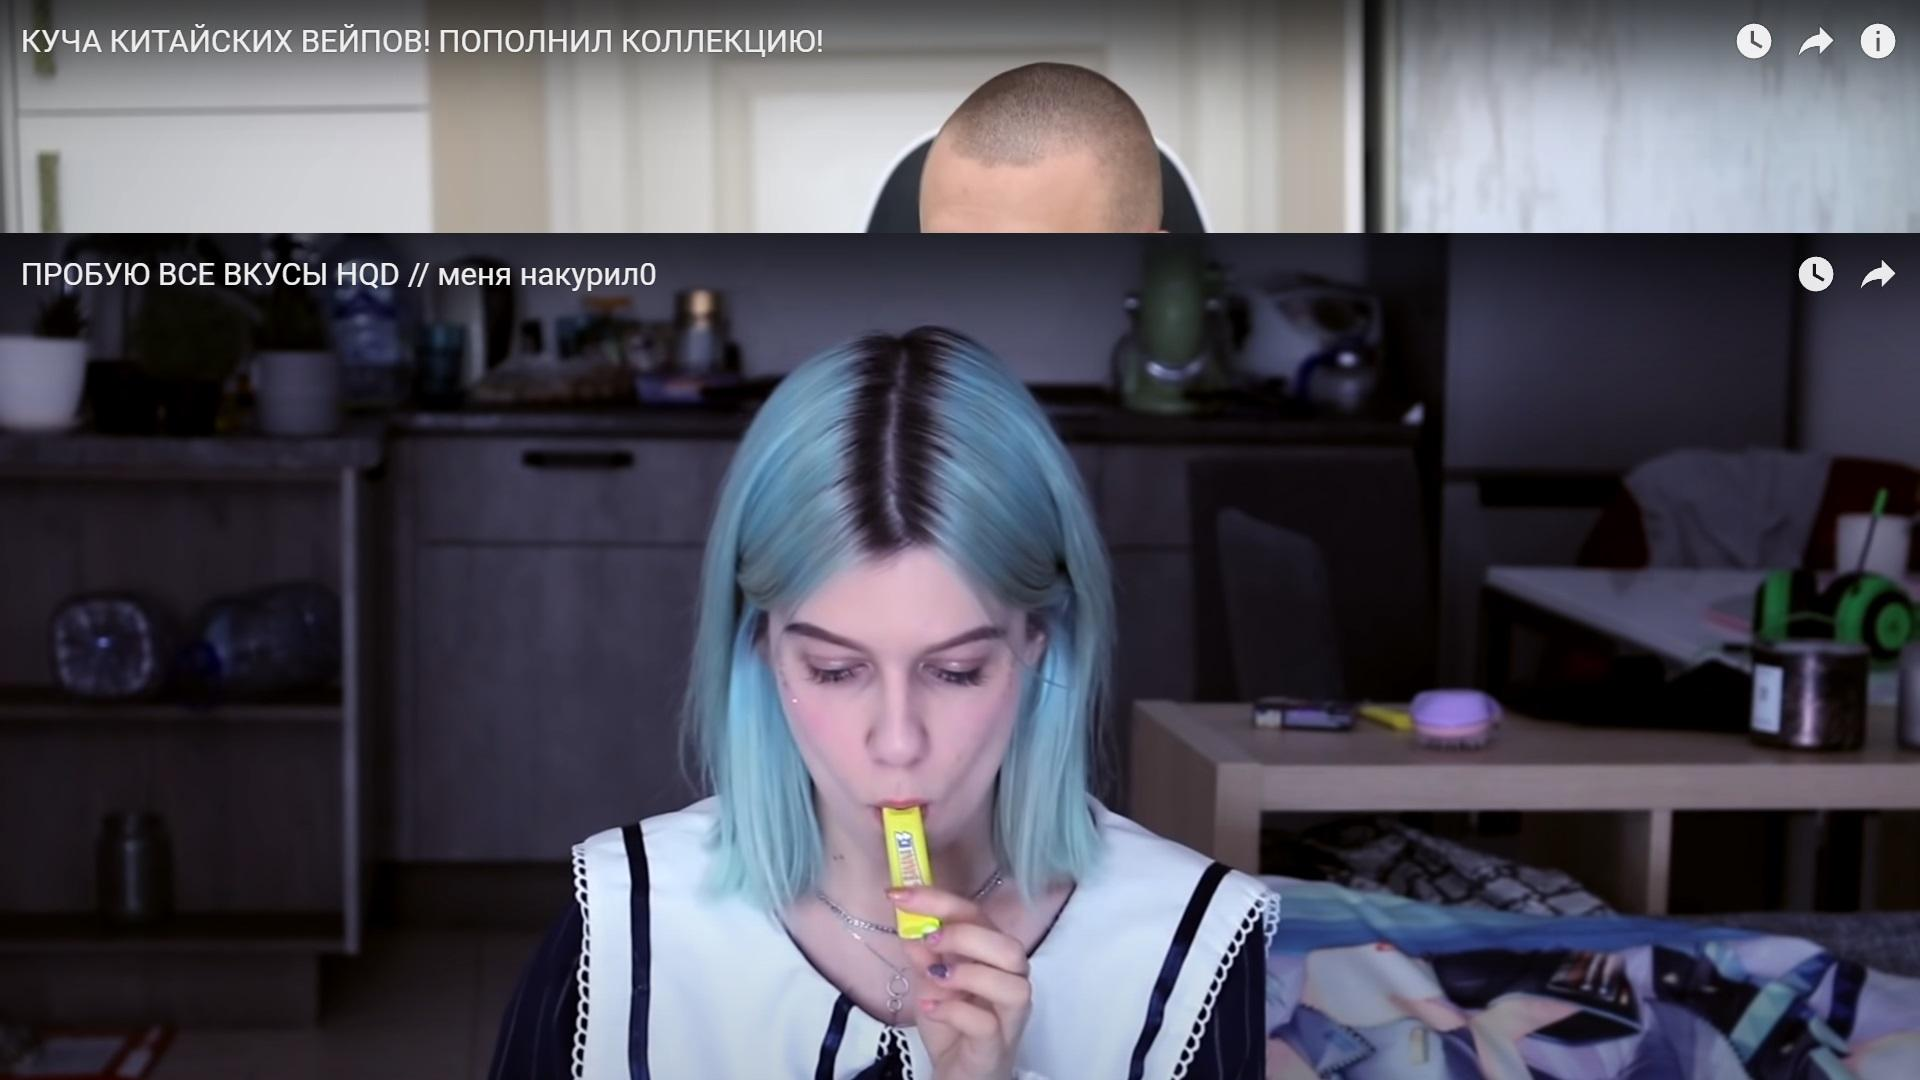Vape: (881, 804, 942, 939)
